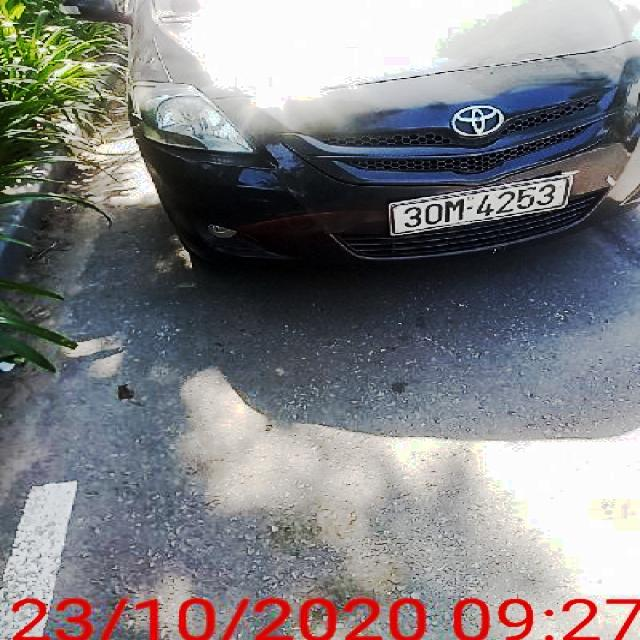license_plate: (391, 176, 570, 234)
